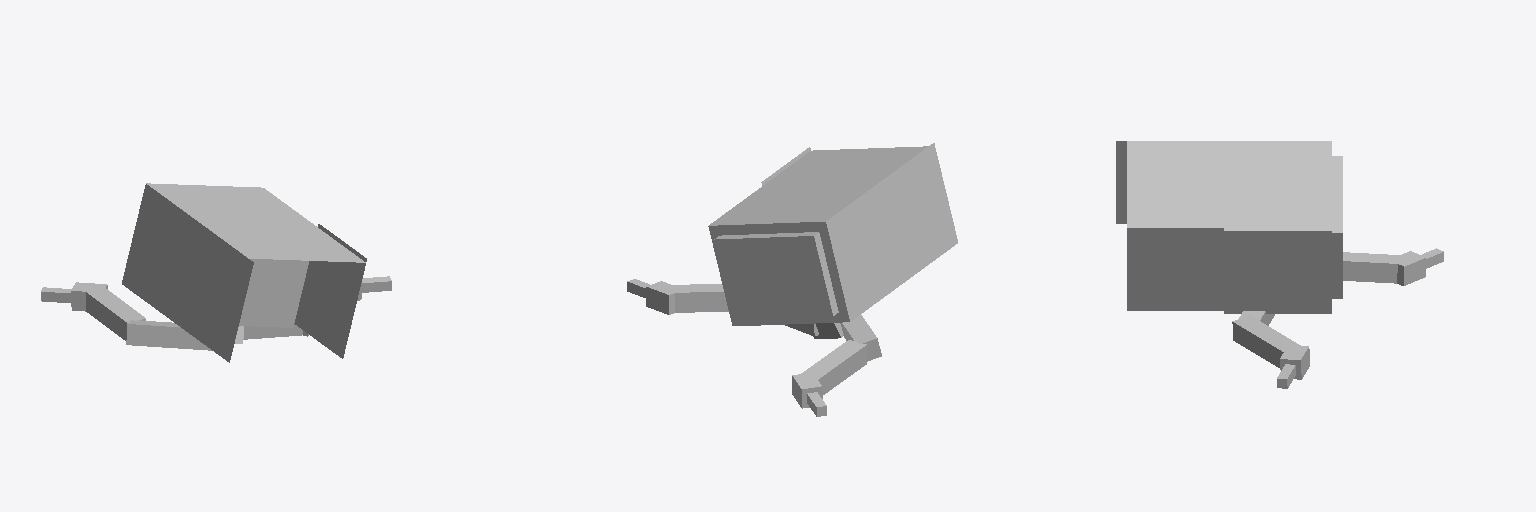
The model's file is droid_destroy.obj.
3 views of the same model, side by side, from view 1: azimuth 30°, elevation 25°; view 2: azimuth 150°, elevation 25°; view 3: azimuth 270°, elevation 25° (orthographic).
Visible parts, largest first — view 1: torso, bone3, cube_r3, bone4; view 2: torso, cube_r3, cube_r2, bone3, bone5, bone8; view 3: torso, cube_r2, cube_r3, bone8, bone5.
Boxes of the visible parts, x1,y1,x2,y2 form: torso: [122, 183, 366, 362]; bone3: [126, 320, 211, 350]; cube_r3: [86, 285, 145, 340]; bone4: [243, 324, 302, 339]; torso: [708, 143, 957, 325]; cube_r3: [797, 340, 866, 394]; cube_r2: [666, 284, 728, 312]; bone3: [840, 315, 881, 361]; bone5: [646, 281, 683, 314]; bone8: [792, 372, 822, 408]; torso: [1116, 141, 1342, 313]; cube_r2: [1232, 315, 1298, 367]; cube_r3: [1343, 252, 1406, 283]; bone8: [1389, 251, 1425, 285]; bone5: [1280, 345, 1309, 379].
Size of the model in its own units: 1.83 by 0.9439 by 1.9.